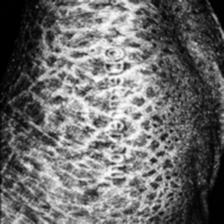Non-Cancerous Skin Condition: (20, 44, 92, 224), (154, 67, 204, 224), (44, 0, 174, 41)
